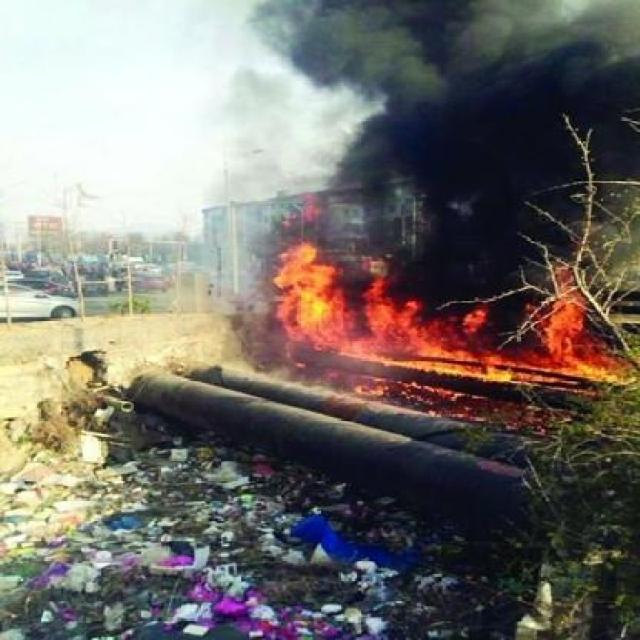Fire: (242, 200, 630, 426)
Smoke: (253, 2, 640, 178)
